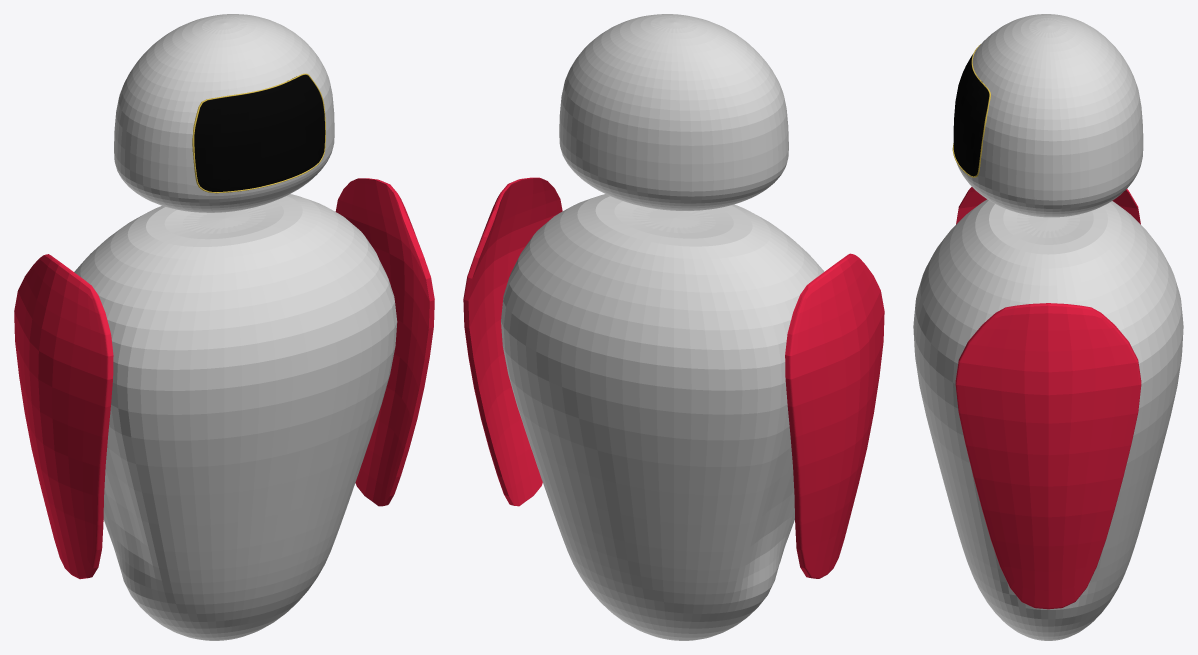
Rendered from Everard.fbx.
3 renders of one model, left to right at view 1: azimuth 30°, elevation 25°; view 2: azimuth 150°, elevation 25°; view 3: azimuth 270°, elevation 25°, orthographic.
Parts seen in each view (by area): view 1: Body, Head, Arm_Right, Arm_Left, Head_rim; view 2: Body, Head, Arm_Right, Arm_Left; view 3: Body, Arm_Left, Head, Arm_Right.
Part boxes in pixels (<box>): Body: <box>74,194,397,640</box>; Head: <box>114,14,334,212</box>; Arm_Right: <box>14,254,113,579</box>; Arm_Left: <box>335,178,434,506</box>; Head_rim: <box>192,73,325,193</box>; Body: <box>501,194,824,640</box>; Head: <box>559,14,788,210</box>; Arm_Right: <box>785,253,884,578</box>; Arm_Left: <box>463,177,562,506</box>; Body: <box>913,199,1183,640</box>; Arm_Left: <box>955,303,1141,609</box>; Head: <box>953,14,1143,217</box>; Arm_Right: <box>956,187,1140,224</box>.
Bounding box in the file's own units: 194 × 305 × 123.
